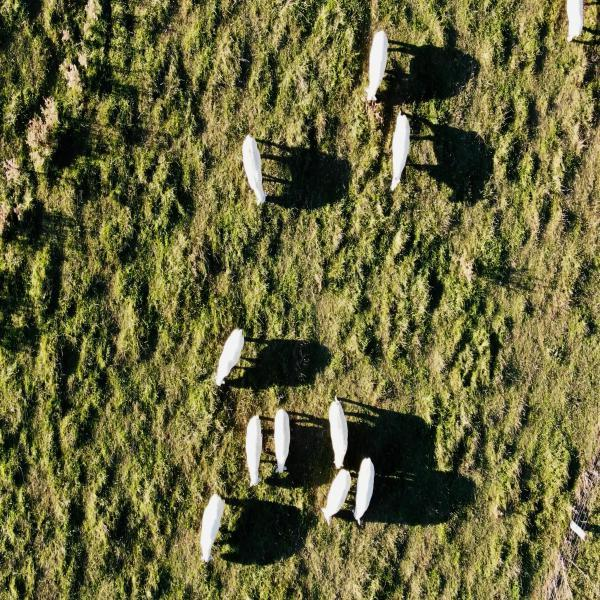sheep: (199, 492, 227, 566), (215, 328, 247, 390), (241, 134, 268, 206), (320, 468, 351, 529), (390, 107, 411, 195), (365, 29, 389, 104), (351, 457, 376, 528), (327, 392, 348, 469), (244, 412, 264, 490), (272, 407, 292, 476), (565, 1, 585, 44)
